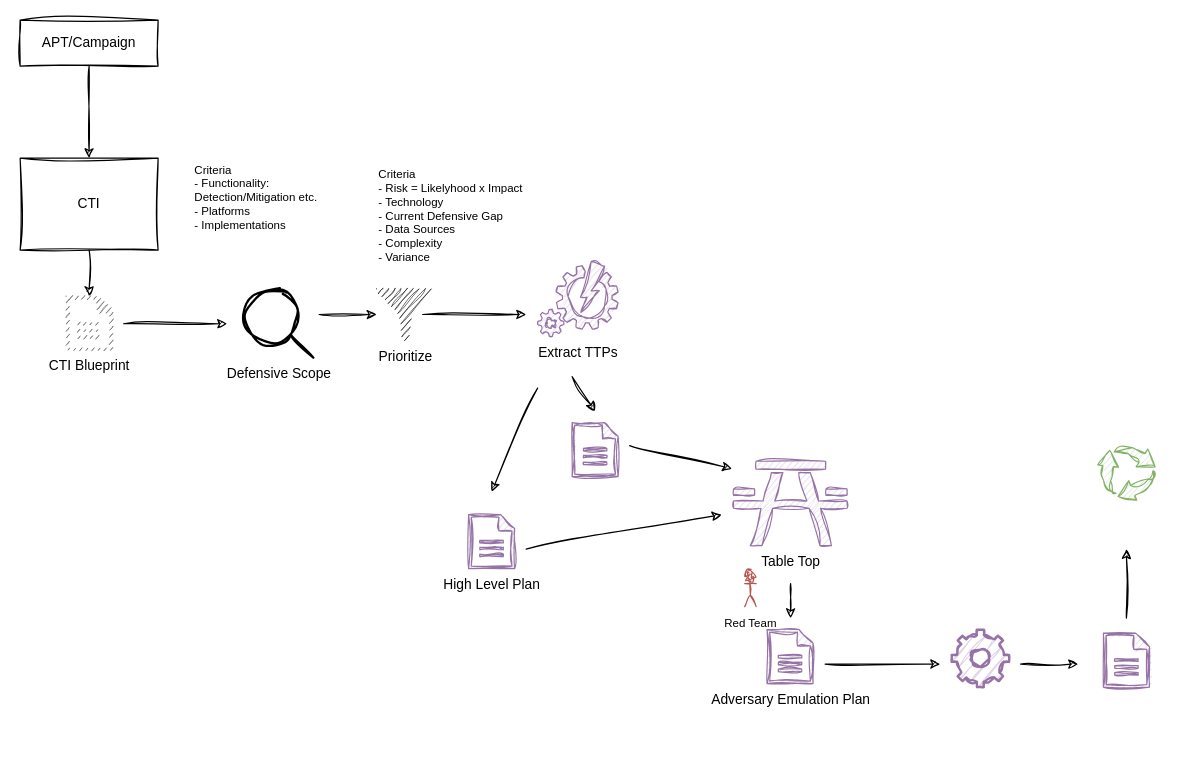
The diagram is 1202 pixels wide and 782 high, and some of its shapes have lost their labels. The centre of each missing label's shape, as x and y in pixels:
"Capability Abstraction" goes at (594,449).
"Purple Team Exercise" goes at (980,658).
"Refine/Improve Analytics" goes at (1126,472).
"Results - Benign vs. malicious - Refine Hypothesis - Confidence" goes at (1125,659).
